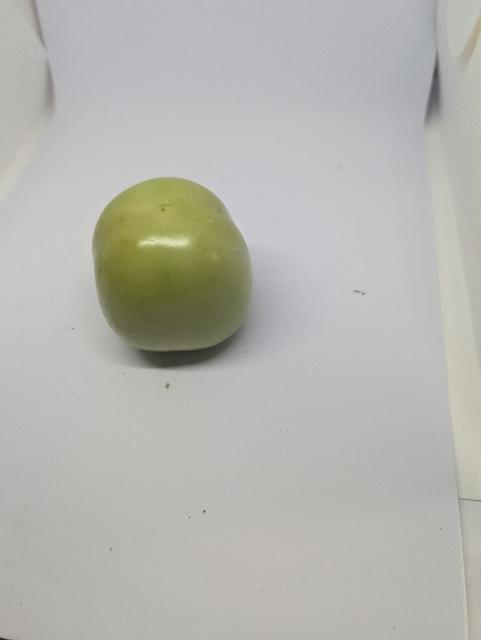green: (92, 167, 262, 362)
